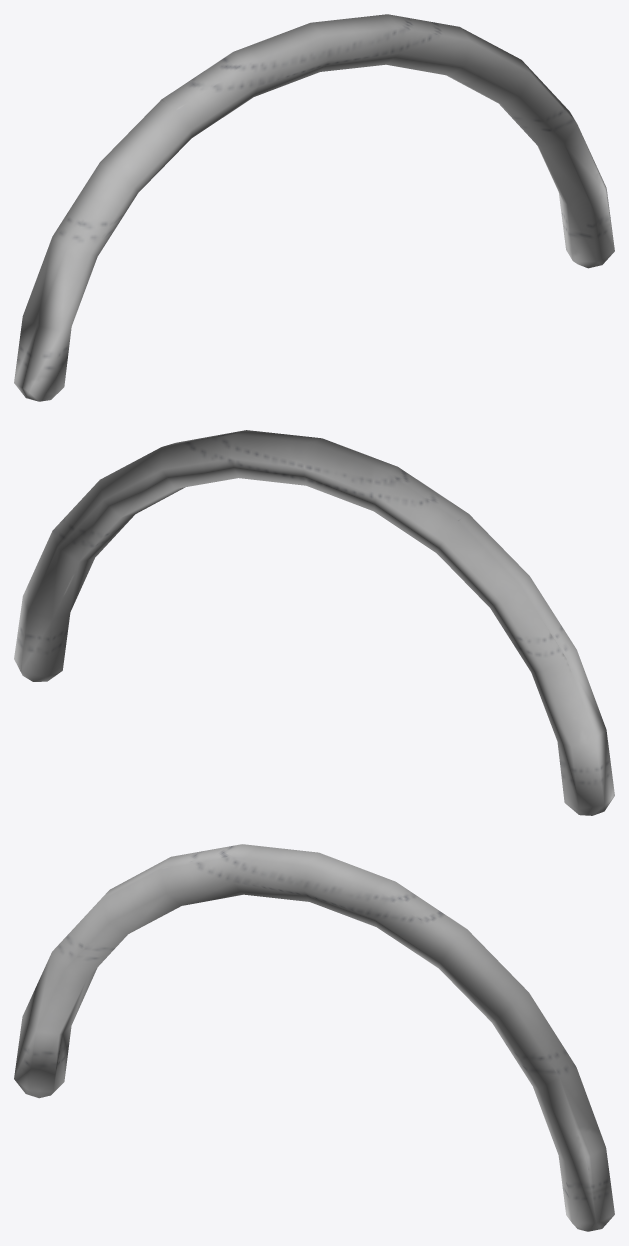
The model's file is Head_C1.fbx.
3 views of the same model, one above another, from view 1: azimuth 30°, elevation 25°; view 2: azimuth 150°, elevation 25°; view 3: azimuth 330°, elevation 25° (orthographic).
Parts seen in each view (by area): view 1: Civ_Auriculares_Head_C1; view 2: Civ_Auriculares_Head_C1; view 3: Civ_Auriculares_Head_C1.
Boxes of the visible parts, x1,y1,x2,y2 form: Civ_Auriculares_Head_C1: [14, 14, 614, 401]; Civ_Auriculares_Head_C1: [14, 430, 614, 815]; Civ_Auriculares_Head_C1: [14, 844, 614, 1231].
Bounding box in the file's own units: 1.7 × 0.834 × 0.1261.
